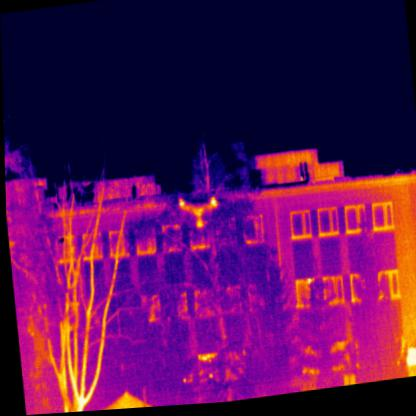drone: (176, 195, 218, 235)
